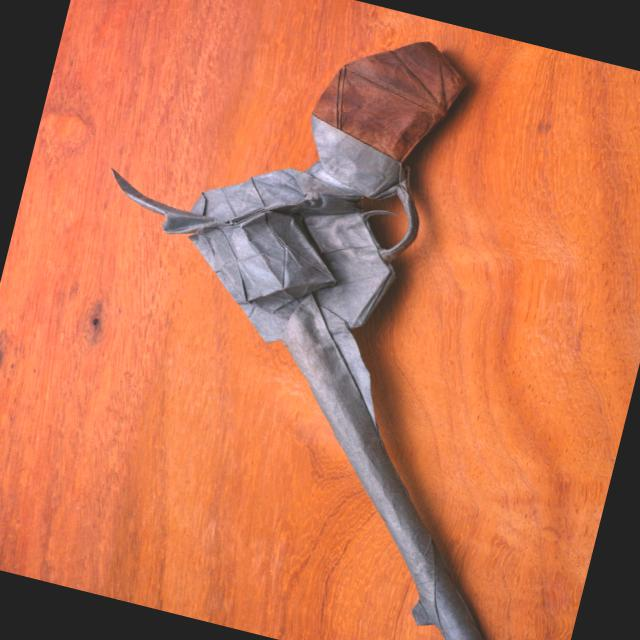handgun: (14, 0, 629, 639)
